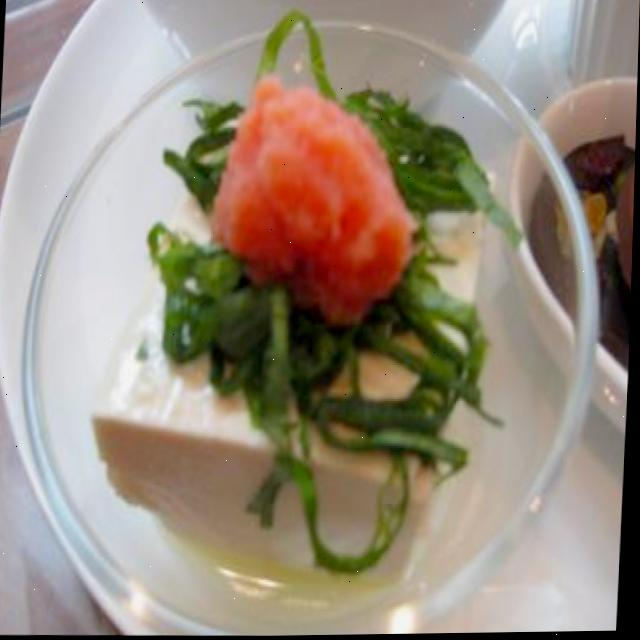豆腐料理: (113, 22, 639, 639)
